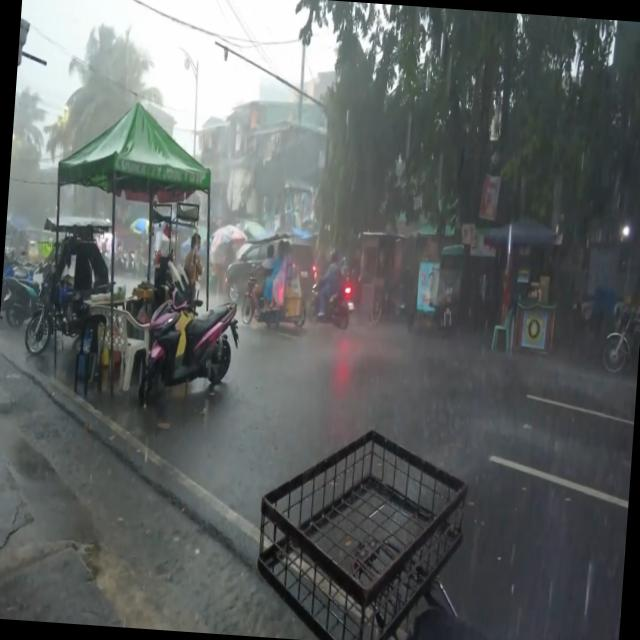full: (328, 247, 338, 264)
